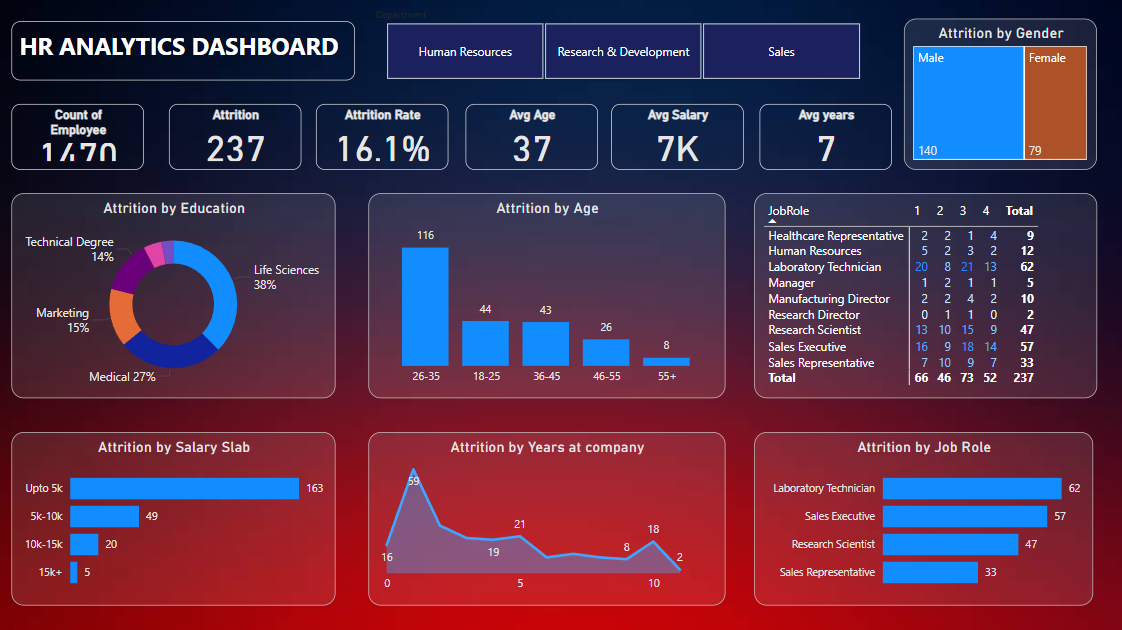

Layout of this report page (visuals, bound fields, positions):
{"tool":"powerbi","page":{"name":"Page 1","canvas":[1280,720],"ordinal":0},"visuals":[{"type":"card","title":"Count of Employee","fields":{"Values":["CountNonNull(HR_Analytics (1).EmpID)"]},"box":[16.4,123.5,150.2,74.4],"z":0},{"type":"card","title":"Attrition","fields":{"Values":["Sum(HR_Analytics (1).AttritionCount)"]},"box":[194.8,123.5,150.2,74.4],"z":1000},{"type":"card","title":"Attrition Rate","fields":{"Values":["HR_Analytics (1).Attrition_Rate"]},"box":[361.4,123.5,150.2,74.4],"z":2000},{"type":"card","title":"Avg Age","fields":{"Values":["Avg(HR_Analytics (1).Age)"]},"box":[531,123.5,150.2,74.4],"z":3000},{"type":"card","title":"Avg Salary","fields":{"Values":["Avg(HR_Analytics (1).MonthlyIncome)"]},"box":[696.1,123.5,150.2,74.4],"z":4000},{"type":"card","title":"Avg years ","fields":{"Values":["Avg(HR_Analytics (1).YearsAtCompany)"]},"box":[864.2,123.5,150.2,74.4],"z":5000},{"type":"donutChart","title":"Attrition by Education","fields":{"Y":["Sum(HR_Analytics (1).AttritionCount)"],"Category":["HR_Analytics (1).EducationField"]},"box":[16.4,224.6,367.4,232],"z":6000},{"type":"columnChart","title":"Attrition by Age","fields":{"Y":["Sum(HR_Analytics (1).AttritionCount)"],"Category":["HR_Analytics (1).AgeGroup"]},"box":[420.9,224.6,404.6,232],"z":7000},{"type":"pivotTable","fields":{"Rows":["HR_Analytics (1).JobRole"],"Columns":["HR_Analytics (1).JobSatisfaction"],"Values":["Sum(HR_Analytics (1).AttritionCount)"]},"box":[858.2,224.6,388.2,232],"z":8000},{"type":"barChart","title":"Attrition by Salary Slab","fields":{"Category":["HR_Analytics (1).SalarySlab"],"Y":["Sum(HR_Analytics (1).AttritionCount)"]},"box":[16.4,495.3,367.4,196.3],"z":9000},{"type":"barChart","title":"Attrition by Job Role","fields":{"Y":["Sum(HR_Analytics (1).AttritionCount)"],"Category":["HR_Analytics (1).JobRole"]},"box":[858.2,495.3,383.7,196.3],"z":10000},{"type":"areaChart","title":"Attrition by Years at company","fields":{"Category":["HR_Analytics (1).YearsAtCompany"],"Y":["Sum(HR_Analytics (1).AttritionCount)"]},"box":[420.9,495.3,404.6,196.3],"z":11000},{"type":"treemap","title":"Attrition by Gender","fields":{"Values":["Sum(HR_Analytics (1).AttritionCount)"],"Group":["HR_Analytics (1).Gender"]},"box":[1027.8,26.8,218.6,171.1],"z":12000},{"type":"slicer","fields":{"Values":["HR_Analytics (1).Department"]},"box":[420.9,16.4,575.6,80.3],"z":13000},{"type":"textbox","box":[16.4,29.7,389.7,66.9],"z":14000}]}

Visuals, with their boxes in screenshot pixels (x1, y1, x2, y2), scaled from the page's 1280x720 canvas onto the 1122x630 screenshot:
"Count of Employee" card: box(14, 108, 146, 173)
"Attrition" card: box(171, 108, 302, 173)
"Attrition Rate" card: box(317, 108, 448, 173)
"Avg Age" card: box(465, 108, 597, 173)
"Avg Salary" card: box(610, 108, 742, 173)
"Avg years " card: box(758, 108, 889, 173)
"Attrition by Education" donutChart: box(14, 197, 336, 400)
"Attrition by Age" columnChart: box(369, 197, 724, 400)
pivotTable - HR_Analytics (1).JobRole x HR_Analytics (1).JobSatisfaction: box(752, 197, 1093, 400)
"Attrition by Salary Slab" barChart: box(14, 433, 336, 605)
"Attrition by Job Role" barChart: box(752, 433, 1089, 605)
"Attrition by Years at company" areaChart: box(369, 433, 724, 605)
"Attrition by Gender" treemap: box(901, 23, 1093, 173)
slicer - HR_Analytics (1).Department: box(369, 14, 873, 85)
textbox: box(14, 26, 356, 85)
